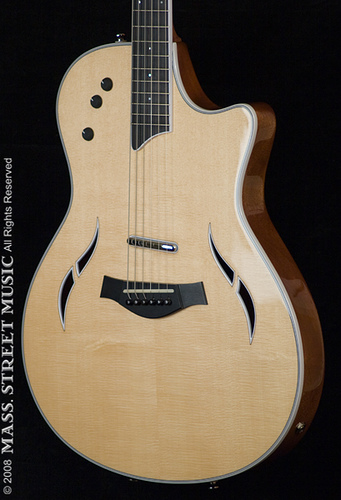guitar: (17, 1, 325, 483)
